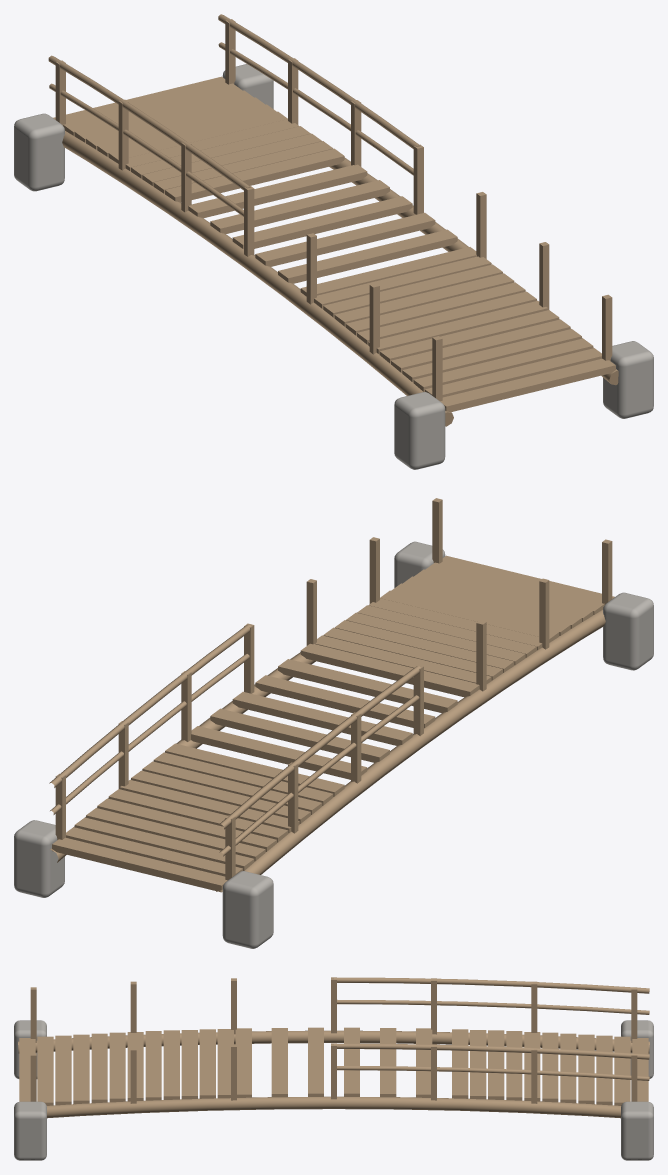
The model's file is bridge_broken.glb.
3 views of the same model, one above another, from view 1: azimuth 30°, elevation 25°; view 2: azimuth 150°, elevation 25°; view 3: azimuth 270°, elevation 25° (orthographic). The views are drawn at different scales.
Parts seen in each view (by area): view 1: Bridge; view 2: Bridge; view 3: Bridge.
Boxes of the visible parts, bbox=[...] form: Bridge: bbox=[14, 14, 653, 469]; Bridge: bbox=[14, 498, 653, 948]; Bridge: bbox=[14, 977, 653, 1160].
Bounding box in the file's own units: 3.75 × 1.92 × 10.65.
